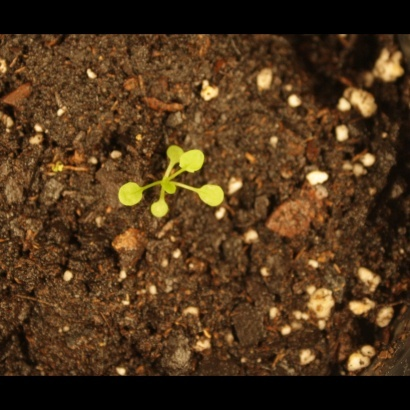leaf: (196, 182, 235, 217), (115, 179, 149, 208), (145, 200, 176, 230), (178, 146, 210, 174), (156, 174, 180, 202), (162, 144, 187, 167)
